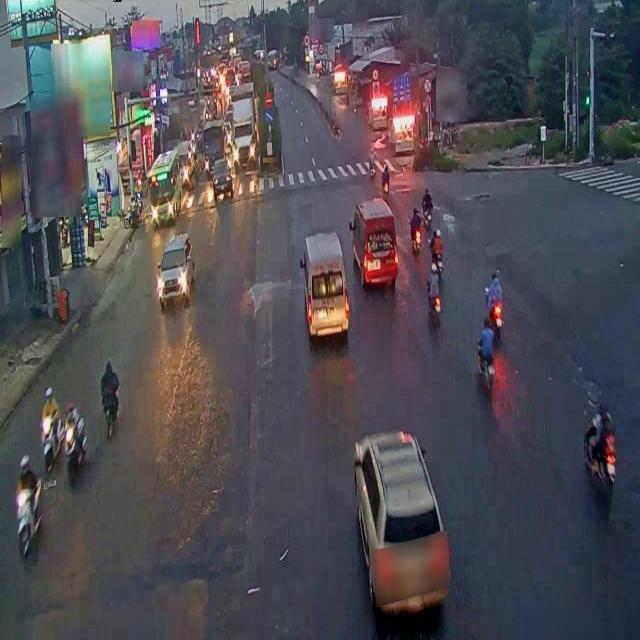car: (353, 428, 453, 620), (155, 232, 193, 310)
motorcycle: (585, 404, 617, 506), (13, 450, 43, 554), (40, 394, 64, 482), (99, 354, 121, 431), (483, 272, 507, 340), (476, 319, 496, 395), (64, 404, 84, 478), (102, 360, 120, 441), (425, 264, 443, 326), (429, 223, 445, 279), (408, 203, 422, 256)
truck: (302, 228, 354, 353), (353, 195, 403, 295)
